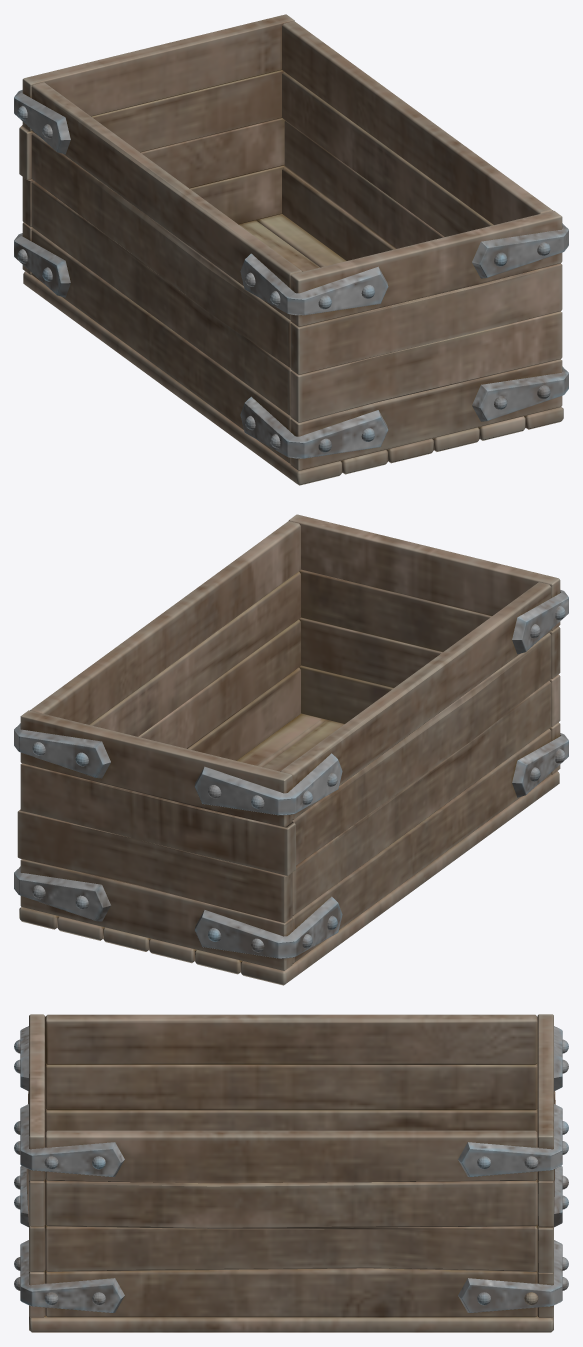
3 views of the same model, one above another, from view 1: azimuth 30°, elevation 25°; view 2: azimuth 150°, elevation 25°; view 3: azimuth 270°, elevation 25° (orthographic). The views are drawn at different scales.
Parts seen in each view (by area): view 1: SM_box_01_LOD0; view 2: SM_box_01_LOD0; view 3: SM_box_01_LOD0.
Part boxes in pixels (<box>): SM_box_01_LOD0: <box>14,14,568,485</box>; SM_box_01_LOD0: <box>14,514,568,985</box>; SM_box_01_LOD0: <box>14,1014,568,1332</box>.
Size of the model in its own units: 84.78 by 146 by 57.15.
1 material, 1 textured.
